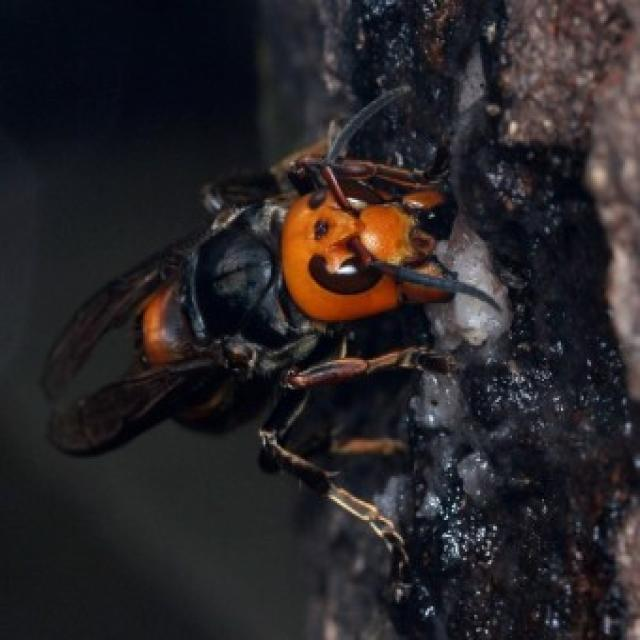Wasp: (78, 89, 496, 554)
